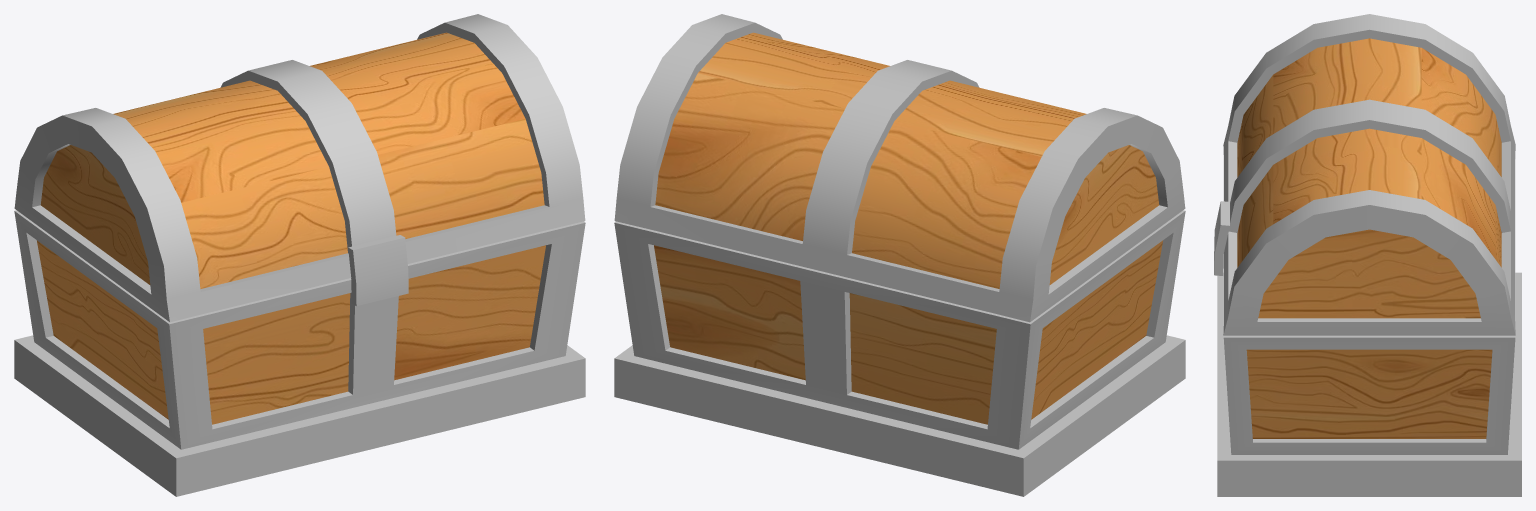
File: Chest.fbx
3 views of the same model, side by side, from view 1: azimuth 30°, elevation 25°; view 2: azimuth 150°, elevation 25°; view 3: azimuth 270°, elevation 25° (orthographic). The views are drawn at different scales.
Visible parts, largest first — view 1: Low; view 2: Low; view 3: Low.
Part boxes in pixels (x1,y1,x2,y2): Low: (14,14,585,496); Low: (614,14,1185,496); Low: (1214,14,1521,496).
Bounding box in the file's own units: 137 × 98.23 × 93.31.
